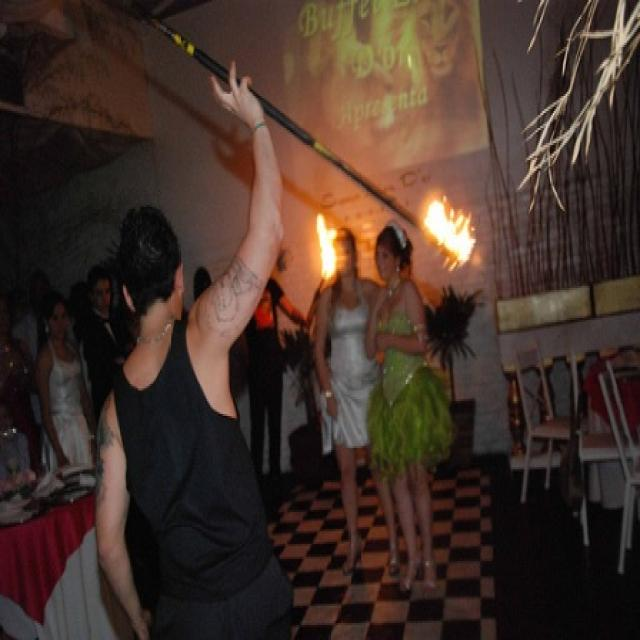People: (66, 191, 300, 640), (369, 223, 459, 592), (307, 208, 376, 600), (34, 283, 103, 478), (0, 286, 43, 473), (76, 256, 138, 379), (82, 256, 128, 392), (23, 265, 61, 323), (0, 394, 20, 476)
Table: (2, 431, 112, 640), (579, 340, 640, 479)
chair: (559, 359, 633, 552), (497, 335, 584, 497), (592, 354, 640, 590)
